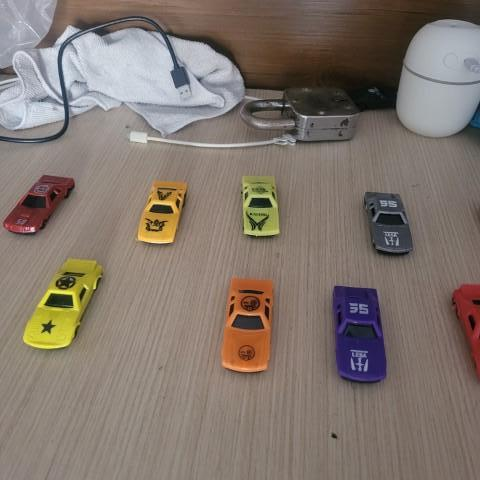car: (23, 254, 106, 352), (329, 282, 392, 383), (219, 272, 278, 375), (5, 172, 76, 240), (136, 178, 189, 245), (363, 188, 416, 254), (239, 173, 283, 238)
